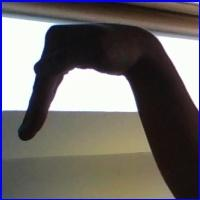A: (9, 18, 170, 174)
